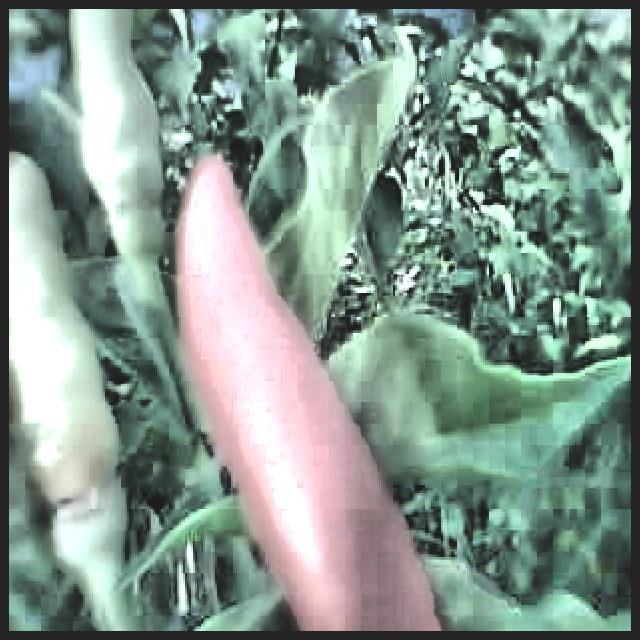Cabai: (186, 166, 311, 607)
